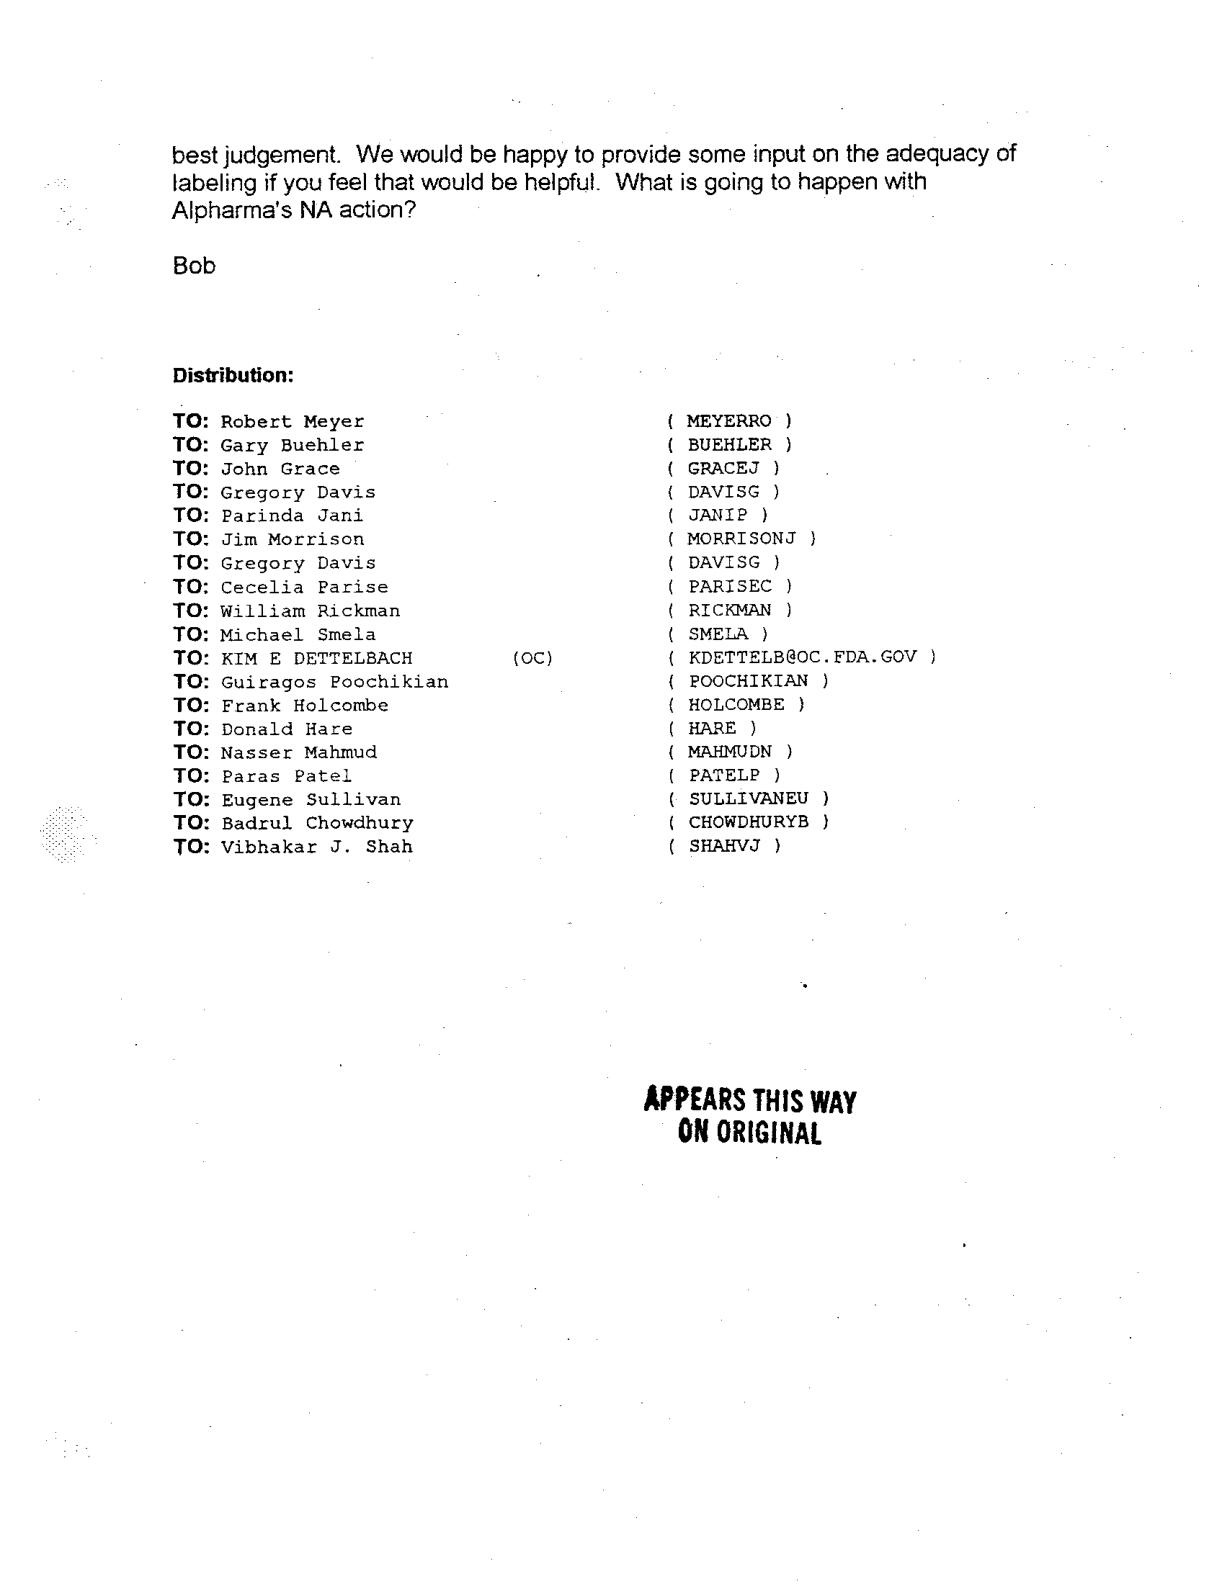nolines: (168, 409, 938, 857)
